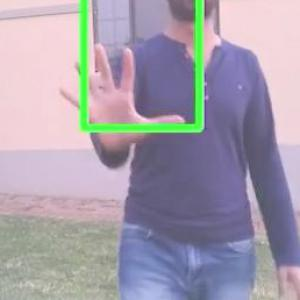follow_hand: (55, 37, 188, 150)
